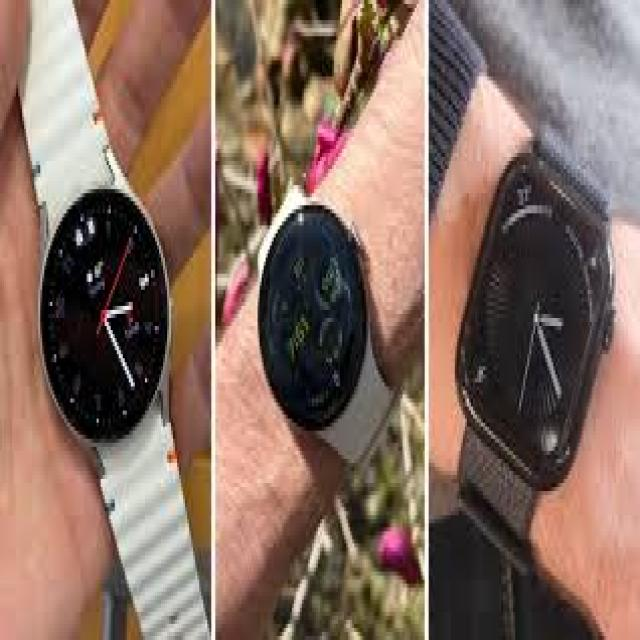objects: (18, 0, 205, 636), (457, 141, 612, 576), (260, 189, 396, 469)
